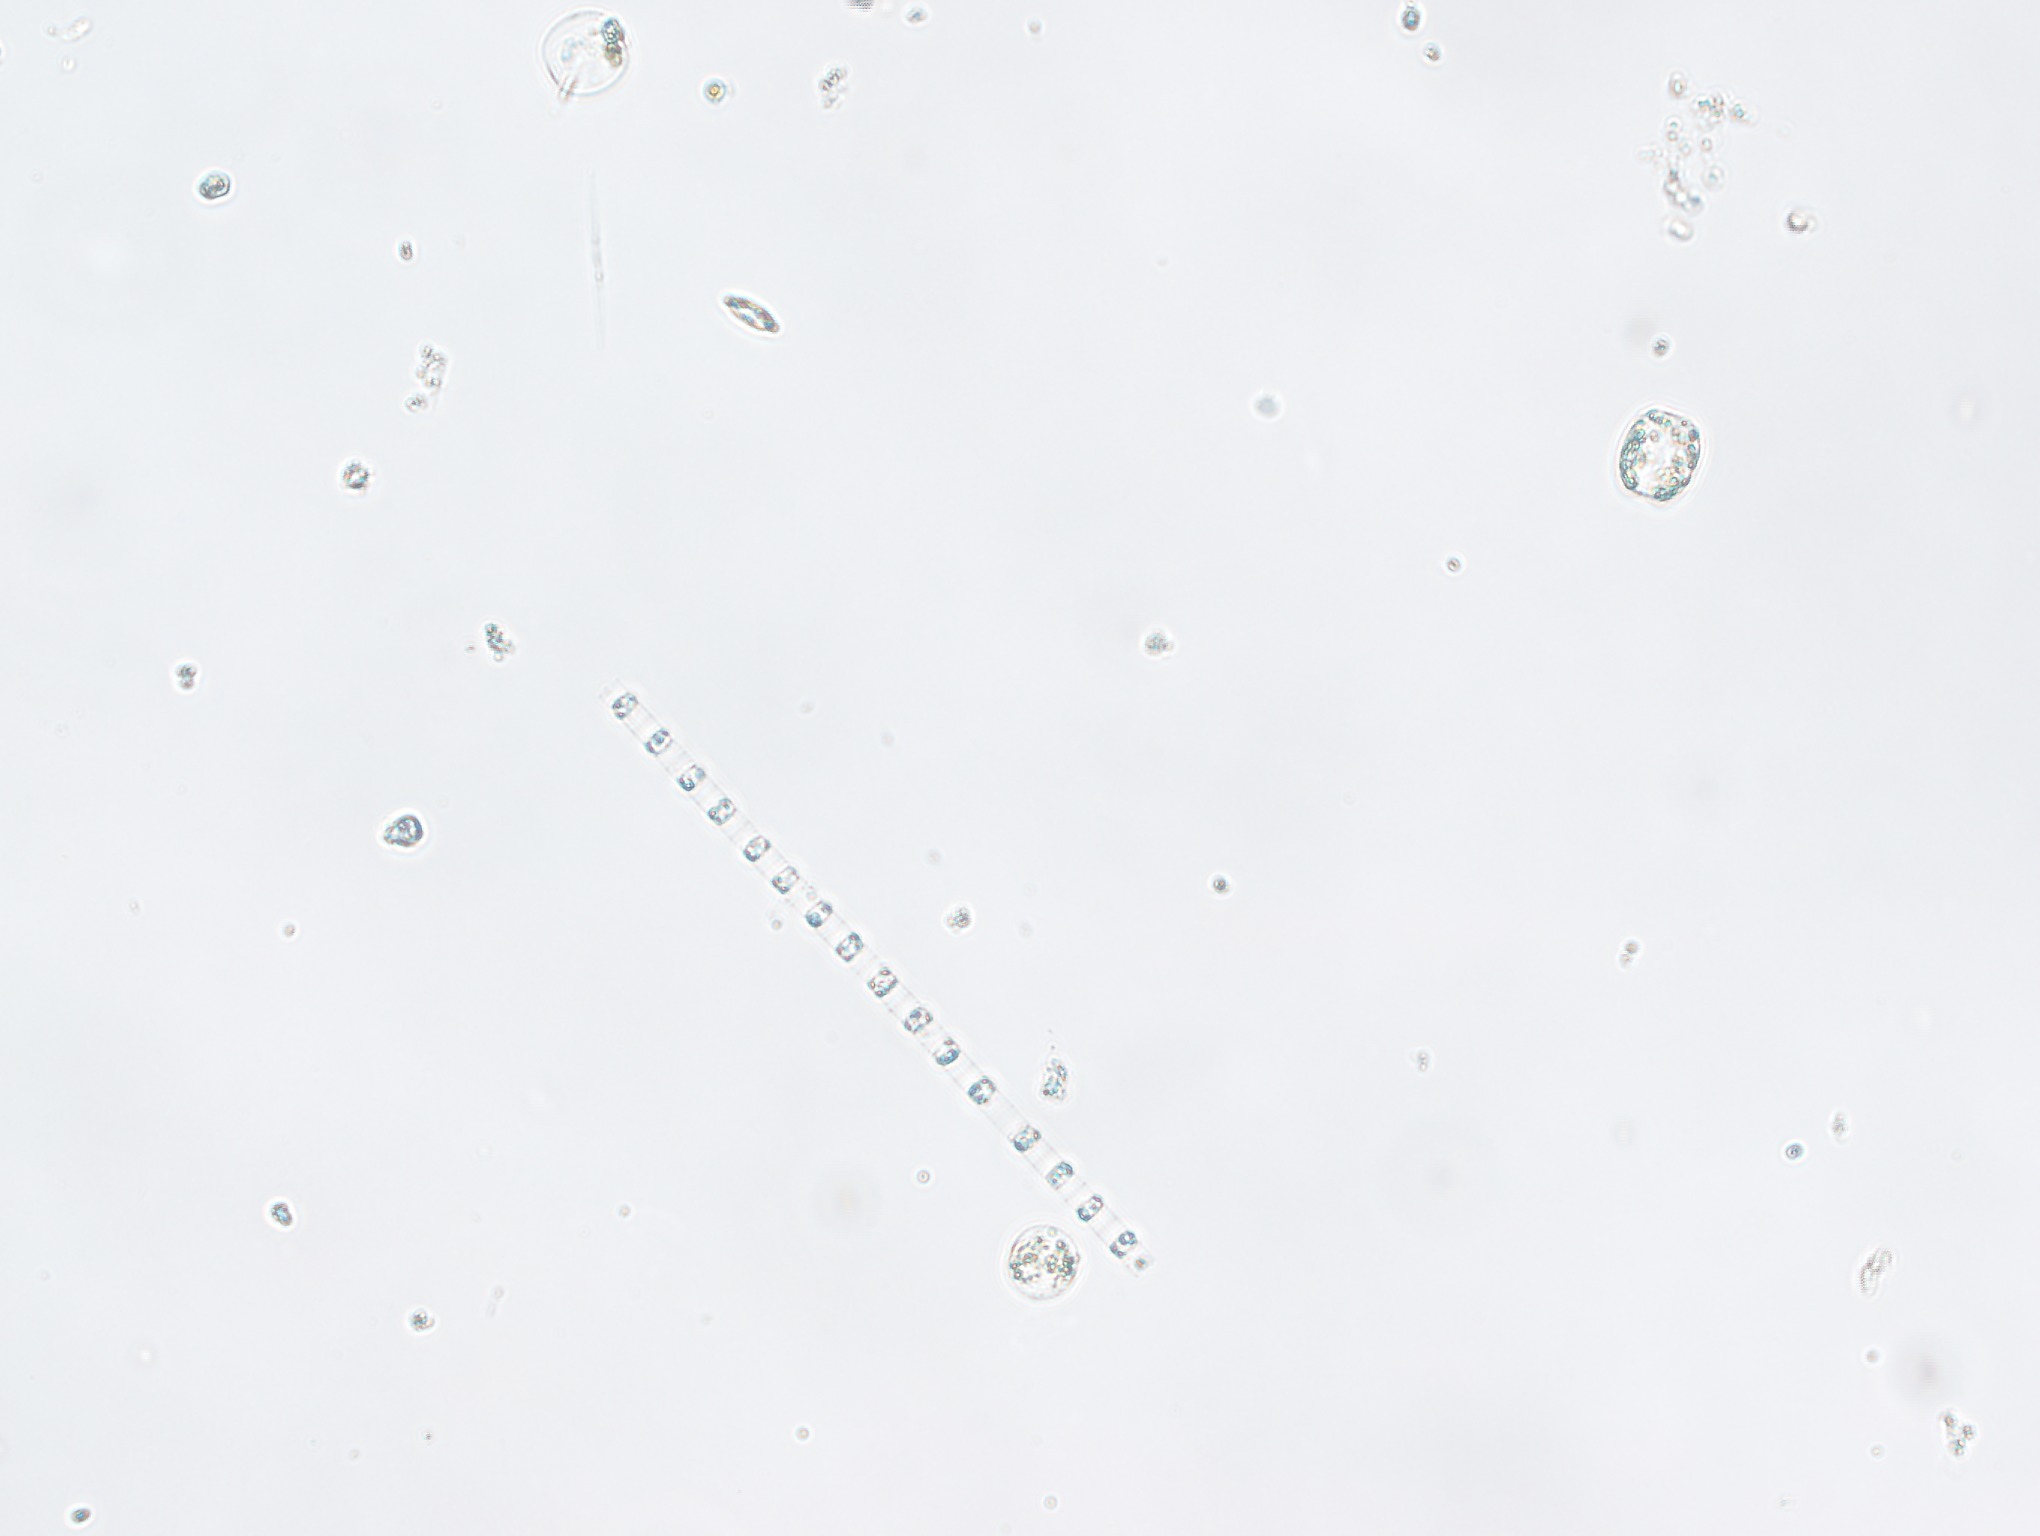skeletonema: (589, 671, 1156, 1304)
